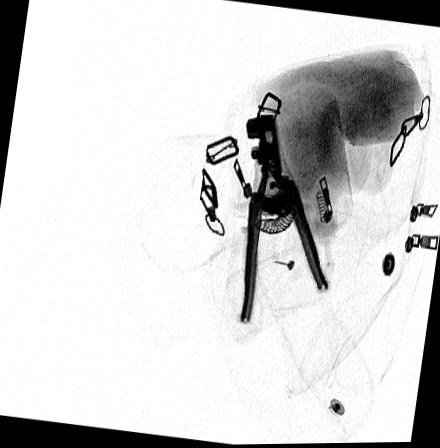Pliers: (240, 113, 329, 323)
